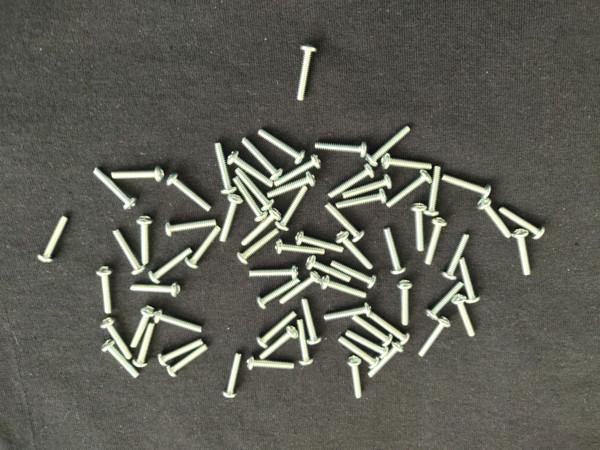longscrew: (92, 167, 138, 212), (165, 172, 214, 214), (385, 169, 434, 211), (364, 126, 413, 167), (241, 136, 284, 181), (227, 151, 275, 190), (110, 228, 147, 278), (257, 129, 307, 166), (325, 163, 375, 200), (323, 202, 366, 244), (235, 168, 275, 213), (232, 175, 268, 224), (147, 248, 194, 285), (498, 206, 546, 242), (240, 208, 283, 248), (185, 224, 222, 270), (36, 214, 70, 264), (273, 154, 323, 188), (101, 339, 141, 380), (335, 231, 375, 272), (424, 281, 465, 321), (256, 311, 299, 349), (476, 196, 513, 240), (236, 229, 281, 265), (255, 277, 302, 311), (275, 185, 309, 232), (166, 343, 210, 379), (367, 310, 411, 346), (440, 232, 471, 283), (366, 340, 404, 380), (266, 171, 318, 200), (441, 172, 493, 201), (279, 271, 322, 306), (417, 316, 452, 359), (100, 317, 134, 361), (258, 325, 299, 361), (337, 336, 380, 370), (342, 173, 394, 201), (330, 259, 378, 289), (295, 41, 318, 102), (157, 339, 205, 368), (218, 193, 245, 244), (351, 315, 394, 347), (305, 256, 352, 285), (153, 309, 205, 335), (381, 225, 408, 275), (344, 330, 390, 359), (423, 217, 449, 268), (213, 141, 237, 196), (422, 165, 445, 219), (320, 275, 369, 300), (130, 304, 157, 349), (450, 294, 477, 339), (295, 231, 345, 255), (313, 138, 369, 159), (335, 188, 388, 210), (458, 257, 482, 305), (131, 323, 156, 369), (300, 297, 323, 347), (511, 227, 533, 278), (110, 163, 166, 183), (221, 351, 244, 399), (323, 302, 373, 323), (409, 200, 428, 255), (295, 318, 316, 367), (164, 218, 217, 237), (381, 153, 434, 172), (135, 214, 154, 266), (274, 239, 327, 257), (95, 266, 114, 316), (395, 278, 414, 327), (129, 281, 182, 298), (345, 354, 364, 400), (246, 355, 296, 372), (247, 265, 300, 280)
